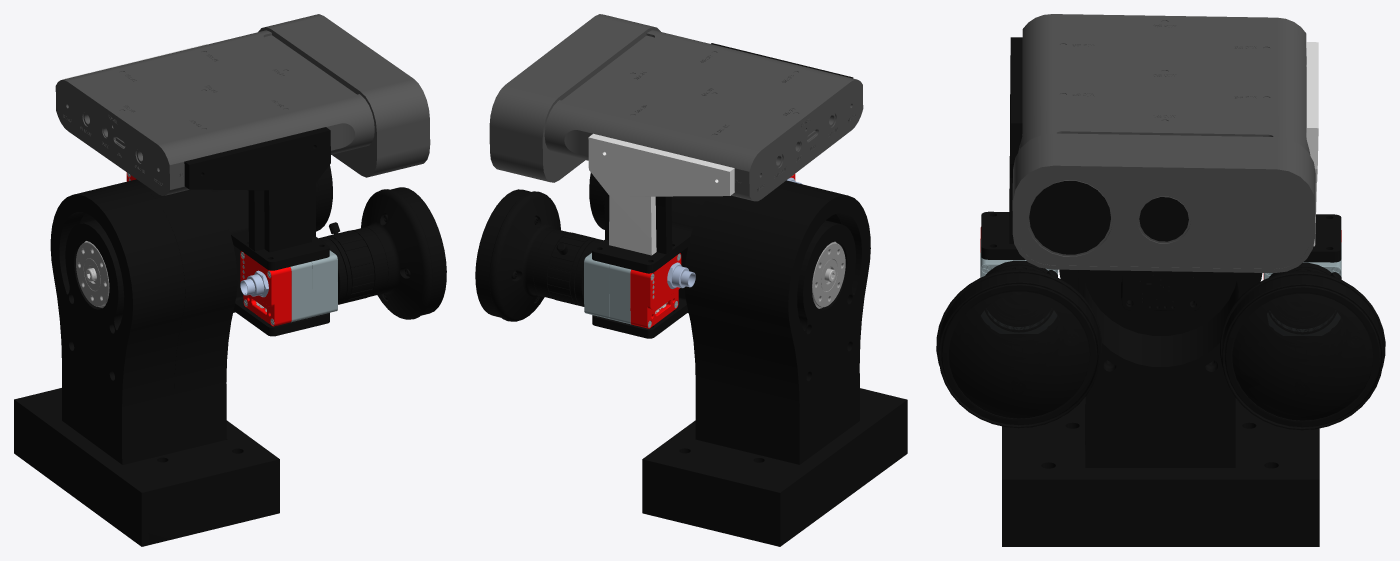
File: MovoHead2.FBX
3 views of the same model, side by side, from view 1: azimuth 30°, elevation 25°; view 2: azimuth 150°, elevation 25°; view 3: azimuth 270°, elevation 25° (orthographic). The views are drawn at different scales.
Visible parts, largest first — view 1: Âûðåç-Âûòÿíóòü11, Body090, Box005, Body091, Body011, Box006, Body2, Body032, Body9, Body023, Body031, Body1 (+1 smaller); view 2: Âûðåç-Âûòÿíóòü11, Body090, Box005, Body1 (×5), Body091, Box008, Body2, Body9, Body011; view 3: Âûðåç-Âûòÿíóòü11, Box005, Body011, Body1, Body091, Body2, Body89, Box006, Box008.
Part boxes in pixels (x1,y1,x2,y2): Âûðåç-Âûòÿíóòü11: (55,14,430,195); Body090: (50,182,185,464); Box005: (14,388,279,546); Body091: (127,179,237,452); Body011: (319,187,446,319); Box006: (184,127,330,252); Body2: (210,184,329,336); Body032: (240,251,291,326); Body9: (76,241,109,306); Body023: (290,262,312,322); Body031: (321,250,337,314); Body1: (315,165,332,231); Âûðåç-Âûòÿíóòü11: (489,14,863,201); Body090: (736,182,870,464); Box005: (642,388,907,546); Body1 (×5): (475,189,681,328); Body091: (684,180,796,451); Box008: (588,133,734,255); Body2: (592,190,707,338); Body9: (812,242,845,307); Body011: (589,172,604,229); Âûðåç-Âûòÿíóòü11: (1012,14,1315,272); Box005: (1002,397,1319,546); Body011: (936,260,1101,428); Body1: (1220,262,1385,430); Body091: (1059,269,1262,467); Body2: (981,211,1341,376); Body89: (1122,270,1201,310); Box006: (1009,37,1022,243); Box008: (1306,42,1318,246).
Size of the model in its own units: 34.32 by 42.61 by 36.4.
